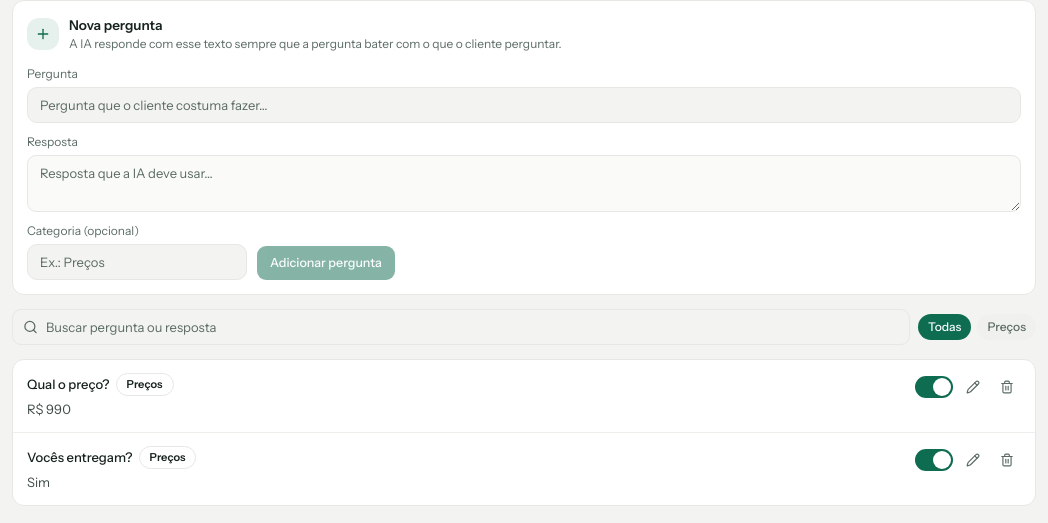
Test: AiFaqPanel (Cérebro da IA v3, Fase 2) › busca filtra por pergunta/resposta
Expected: the text "Qual o preço?" is shown, [27,375,110,394]
Step 1. Type "entregam" into the field labelled "Buscar pergunta ou resposta" → {"x": 461, "y": 327}, box [12,309,910,345]
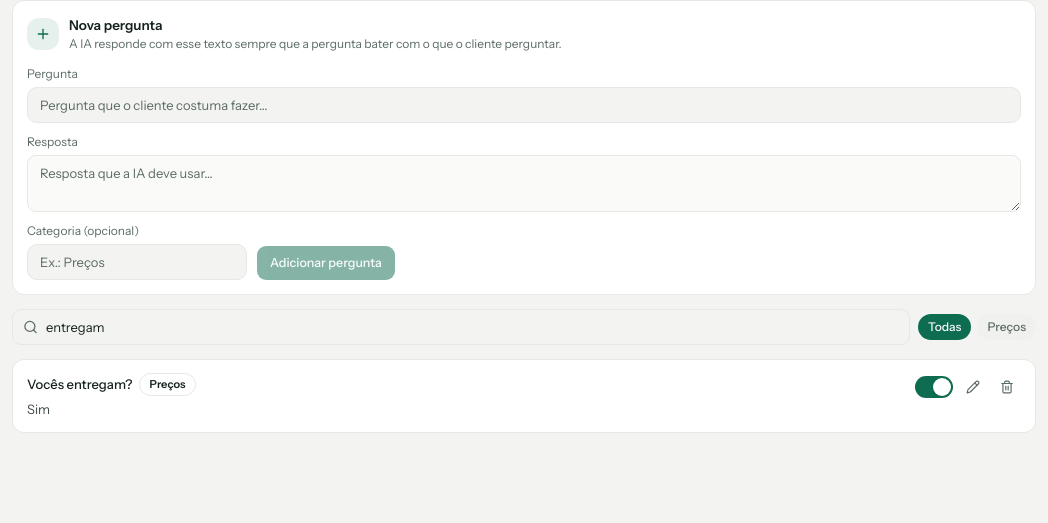
Expected: the text "Vocês entregam?" is shown, [27,375,132,394]
Expected: the text "Qual o preço?" is gone
